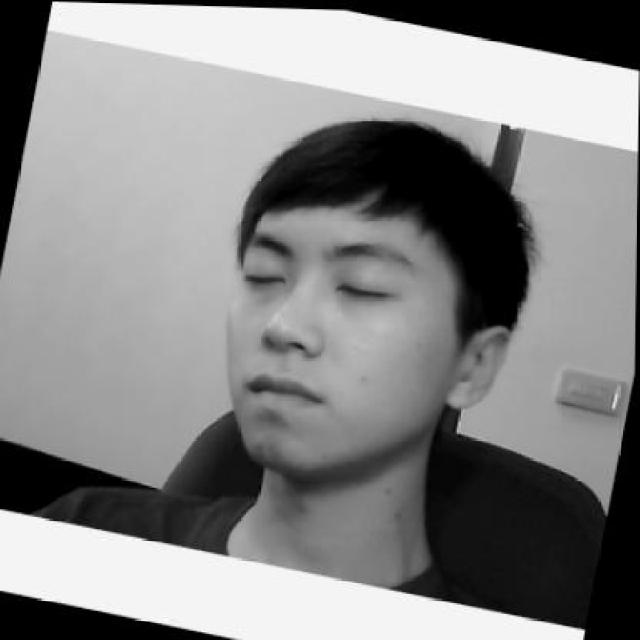inattentif: (198, 88, 544, 508)
